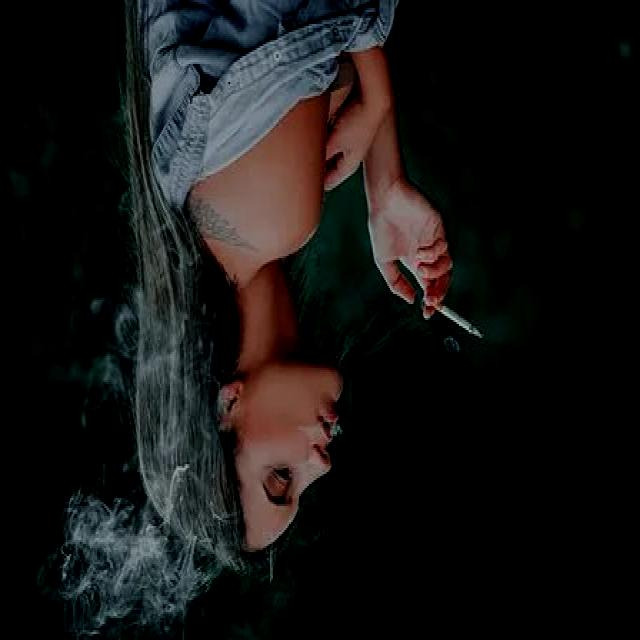smoke: (424, 290, 487, 342)
